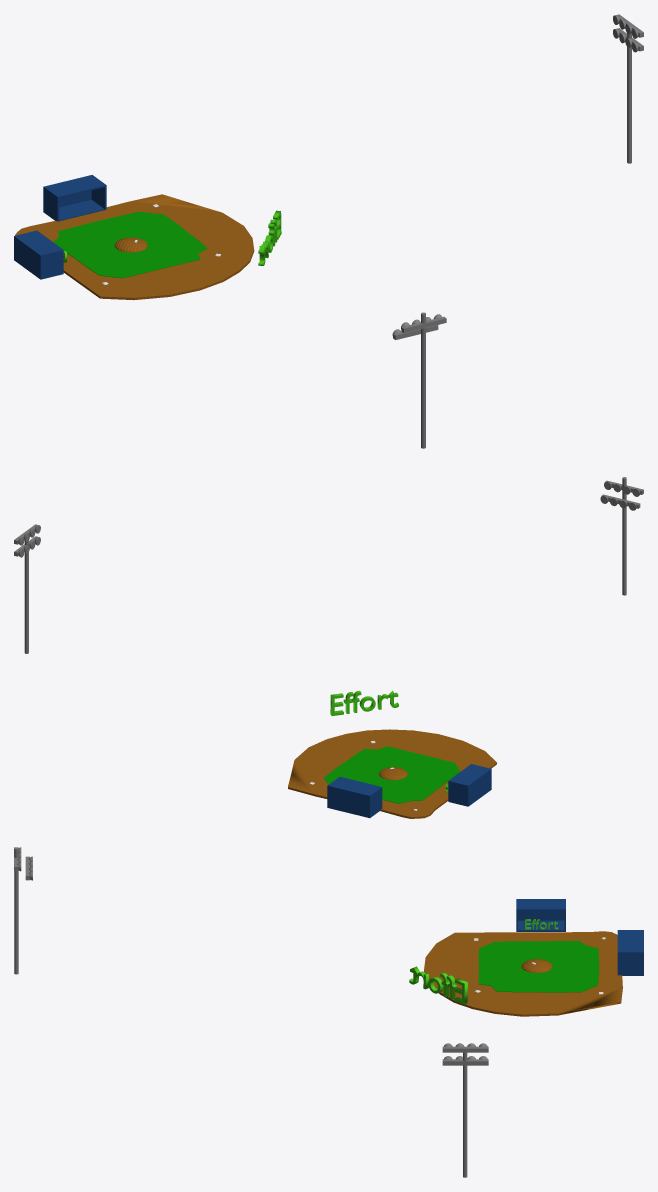
The model's file is baseballfield.obj.
The picture shows the model from 3 angles, top to bottom: view 1: azimuth 30°, elevation 25°; view 2: azimuth 150°, elevation 25°; view 3: azimuth 270°, elevation 25°; orthographic projection. The views are drawn at different scales.
Visible parts, largest first — view 1: Infield, Box643, Dugout1, Dugout2, Cylinder155, EffortText, Cylinder164; view 2: Infield, Box643, Dugout1, Dugout2, EffortText, Cylinder164, Cylinder155; view 3: Infield, Box643, Dugout2, Dugout1, EffortText, Cylinder164, Cylinder155.
Boxes of the visible parts, x1,y1,x2,y2 form: Infield: (15,194,254,300); Box643: (53,211,207,278); Dugout1: (43,175,106,221); Dugout2: (14,230,63,279); Cylinder155: (421,312,425,448); EffortText: (258,210,281,265); Cylinder164: (627,33,631,163); Infield: (288,729,496,818); Box643: (324,746,460,803); Dugout1: (327,777,382,818); Dugout2: (448,764,491,806); EffortText: (330,690,398,715); Cylinder164: (24,540,28,653); Cylinder155: (622,477,626,595); Infield: (424,931,622,1016); Box643: (478,941,599,992); Dugout2: (516,899,565,931); Dugout1: (617,930,643,975); EffortText: (409,966,467,1004); Cylinder164: (463,1052,467,1177); Cylinder155: (14,847,18,974).
Bounding box in the file's own units: 264 × 63.68 × 274.
